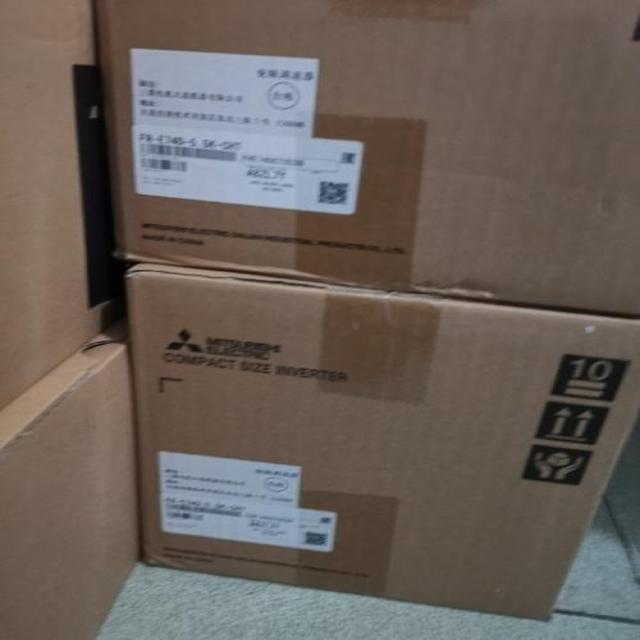box: (123, 262, 639, 622), (93, 0, 640, 318), (0, 0, 138, 412), (0, 313, 138, 638)
